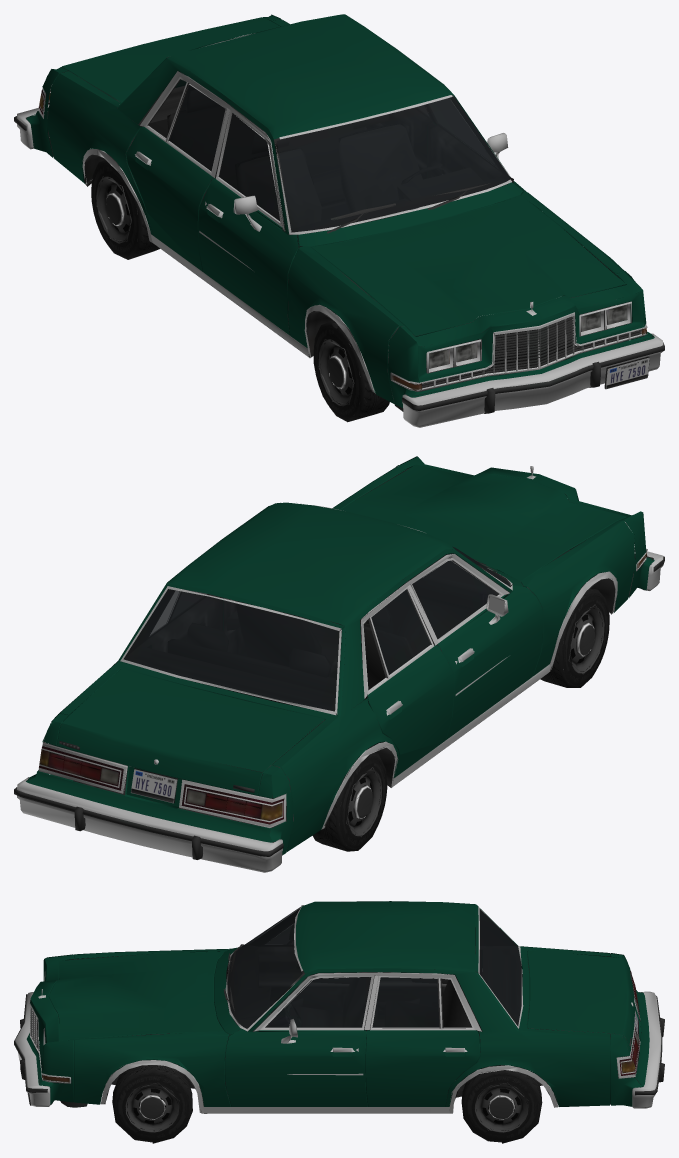
File: negotiator_lod1.glb
The picture shows the model from 3 angles, top to bottom: view 1: azimuth 30°, elevation 25°; view 2: azimuth 150°, elevation 25°; view 3: azimuth 270°, elevation 25°; orthographic projection. The views are drawn at different scales.
Visible parts, largest first — view 1: Negotiator80_Body_Negotiator80_Bodymat_0, Negotiator80_Interior_UCB_Interiors_2_0, Negotiator80_Hood_Negotiator80_Bodymat_0, Negotiator80_Windshield_UCB_Lights_and_Glass_Transperent_0, Negotiator80_bottom_UCB_BOTTOM_0, Negotiator80_Bumper_Front_UCB_BOTTOM_0, Negotiator80_Trunk_door_Negotiator80_Bodymat_0, wheel_FR, wheel_RR, Negotiator80_Glass_Passanger_UCB_Lights_and_Glass_Transperen, Negotiator80_Bodyglass_UCB_Lights_and_Glass_Transperent_0, Negotiator80_Headlights_Glass_UCB_Lights_and_Glass_Transpere (+3 smaller); view 2: Negotiator80_Body_Negotiator80_Bodymat_0, Negotiator80_Interior_UCB_Interiors_2_0, Negotiator80_Trunk_door_Negotiator80_Bodymat_0, Negotiator80_Glass_back_UCB_Lights_and_Glass_Transperent_0, Negotiator80_Hood_Negotiator80_Bodymat_0, Negotiator80_bottom_UCB_BOTTOM_0, Negotiator80_Bumper_Rear_UCB_BOTTOM_0, wheel_RR, wheel_FR, Negotiator80_Glass_Passanger_UCB_Lights_and_Glass_Transperen, Negotiator80_Bodyglass_UCB_Lights_and_Glass_Transperent_0, Negotiator80_Taillights_Glass_UCB_Lights_and_Glass_Transpere (+2 smaller); view 3: Negotiator80_Body_Negotiator80_Bodymat_0, Negotiator80_Interior_UCB_Interiors_2_0, Negotiator80_Hood_Negotiator80_Bodymat_0, Negotiator80_bottom_UCB_BOTTOM_0, Negotiator80_Trunk_door_Negotiator80_Bodymat_0, Negotiator80_Windshield_UCB_Lights_and_Glass_Transperent_0, wheel_FL, wheel_RL, Negotiator80_Glass_Driver_UCB_Lights_and_Glass_Transperent_0, Negotiator80_Bodyglass_UCB_Lights_and_Glass_Transperent_0, Negotiator80_Glass_back_UCB_Lights_and_Glass_Transperent_0, Negotiator80_Bumper_Rear_UCB_BOTTOM_0 (+1 smaller).
Boxes of the visible parts, x1,y1,x2,y2 form: Negotiator80_Body_Negotiator80_Bodymat_0: (26, 14, 654, 407); Negotiator80_Interior_UCB_Interiors_2_0: (140, 84, 513, 326); Negotiator80_Hood_Negotiator80_Bodymat_0: (311, 195, 625, 336); Negotiator80_Windshield_UCB_Lights_and_Glass_Transperent_0: (276, 97, 509, 231); Negotiator80_bottom_UCB_BOTTOM_0: (26, 33, 653, 411); Negotiator80_Bumper_Front_UCB_BOTTOM_0: (402, 333, 664, 427); Negotiator80_Trunk_door_Negotiator80_Bodymat_0: (61, 17, 279, 102); wheel_FR: (313, 321, 389, 422); wheel_RR: (91, 160, 159, 259); Negotiator80_Glass_Passanger_UCB_Lights_and_Glass_Transperen: (219, 113, 280, 221); Negotiator80_Bodyglass_UCB_Lights_and_Glass_Transperent_0: (169, 85, 428, 171); Negotiator80_Headlights_Glass_UCB_Lights_and_Glass_Transpere: (391, 304, 646, 390); Negotiator80_Body_Negotiator80_Bodymat_0: (26, 456, 654, 855); Negotiator80_Interior_UCB_Interiors_2_0: (124, 555, 513, 754); Negotiator80_Trunk_door_Negotiator80_Bodymat_0: (56, 669, 324, 795); Negotiator80_Glass_back_UCB_Lights_and_Glass_Transperent_0: (124, 589, 339, 711); Negotiator80_Hood_Negotiator80_Bodymat_0: (341, 464, 625, 581); Negotiator80_bottom_UCB_BOTTOM_0: (26, 466, 653, 848); Negotiator80_Bumper_Rear_UCB_BOTTOM_0: (14, 777, 283, 872); wheel_RR: (312, 752, 387, 851); wheel_FR: (540, 588, 609, 687); Negotiator80_Glass_Passanger_UCB_Lights_and_Glass_Transperen: (412, 560, 498, 639); Negotiator80_Bodyglass_UCB_Lights_and_Glass_Transperent_0: (171, 589, 430, 674); Negotiator80_Taillights_Glass_UCB_Lights_and_Glass_Transpere: (39, 749, 282, 820); Negotiator80_Body_Negotiator80_Bodymat_0: (26, 901, 649, 1106); Negotiator80_Interior_UCB_Interiors_2_0: (218, 905, 521, 1095); Negotiator80_Hood_Negotiator80_Bodymat_0: (48, 951, 224, 1040); Negotiator80_bottom_UCB_BOTTOM_0: (29, 905, 642, 1113); Negotiator80_Trunk_door_Negotiator80_Bodymat_0: (527, 950, 634, 1049); Negotiator80_Windshield_UCB_Lights_and_Glass_Transperent_0: (227, 907, 302, 1028); wheel_FL: (112, 1065, 192, 1143); wheel_RL: (461, 1070, 542, 1143); Negotiator80_Glass_Driver_UCB_Lights_and_Glass_Transperent_0: (265, 977, 371, 1027); Negotiator80_Bodyglass_UCB_Lights_and_Glass_Transperent_0: (372, 977, 439, 1027); Negotiator80_Glass_back_UCB_Lights_and_Glass_Transperent_0: (479, 909, 521, 1025); Negotiator80_Bumper_Rear_UCB_BOTTOM_0: (632, 991, 664, 1108).
Bounding box in the file's own units: 1.89 × 1.41 × 5.
Materials: 8 (7 with a texture image).
